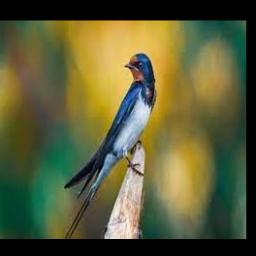Swallow: (64, 53, 155, 239)
